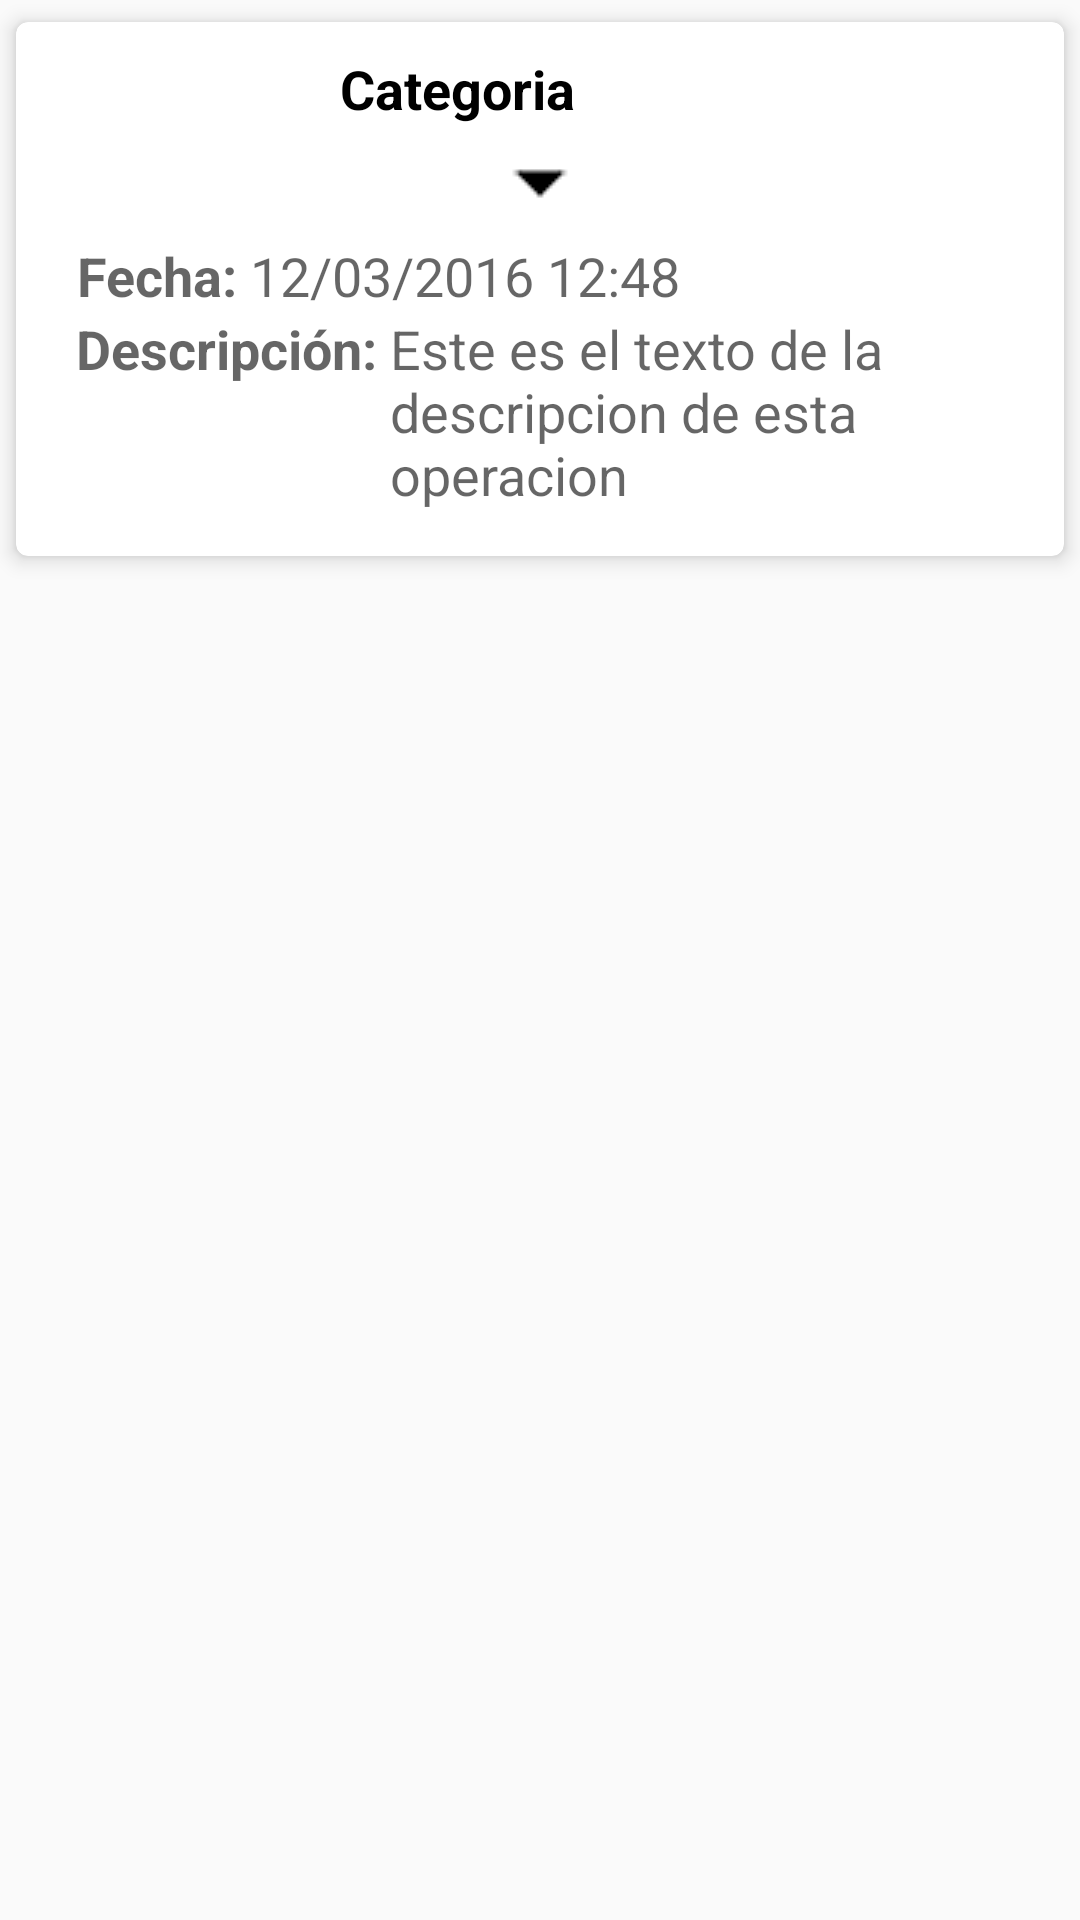

Named icons in this screenshot (1080*1920) and their bounding boxes, (x1, y1, x2, y2):
drop down: (513, 169, 567, 198)
